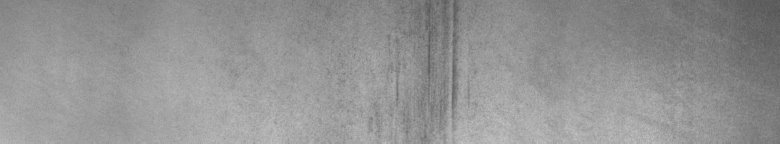ka: (388, 4, 466, 128)
